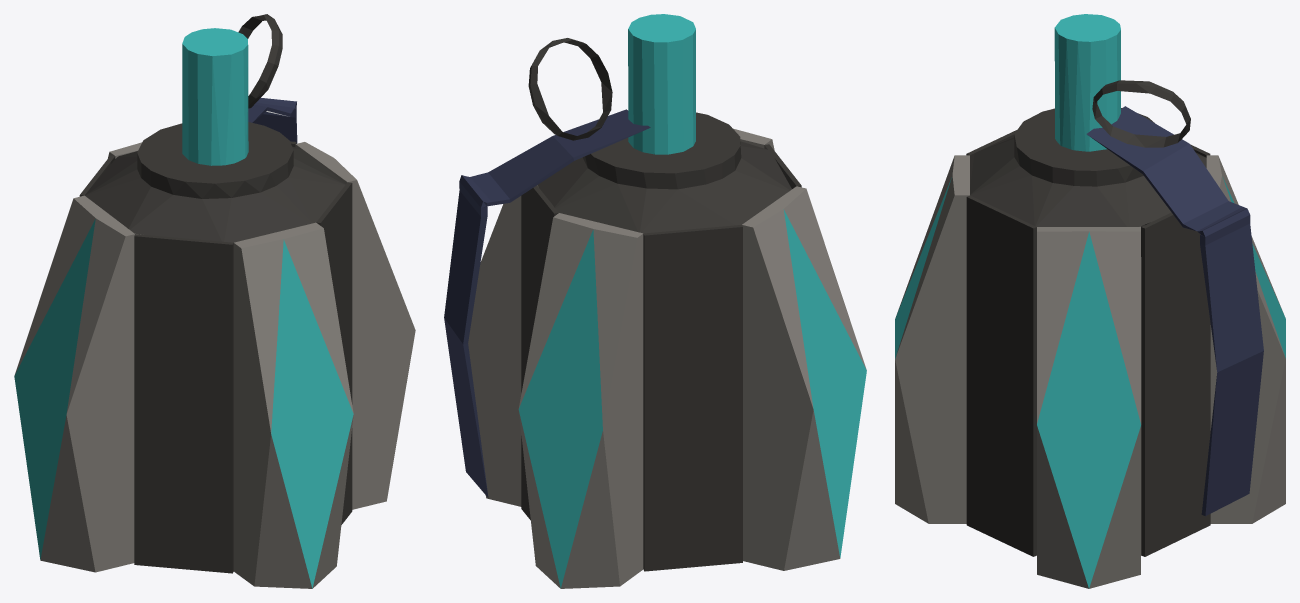
File: granade.fbx
3 views of the same model, side by side, from view 1: azimuth 30°, elevation 25°; view 2: azimuth 150°, elevation 25°; view 3: azimuth 270°, elevation 25° (orthographic). The views are drawn at different scales.
Visible parts, largest first — view 1: Цилиндр; view 2: Цилиндр; view 3: Цилиндр.
Boxes of the visible parts, x1,y1,x2,y2 form: Цилиндр: [14, 14, 415, 588]; Цилиндр: [444, 14, 866, 588]; Цилиндр: [895, 14, 1285, 588].
Bounding box in the file's own units: 178 × 232 × 173.
